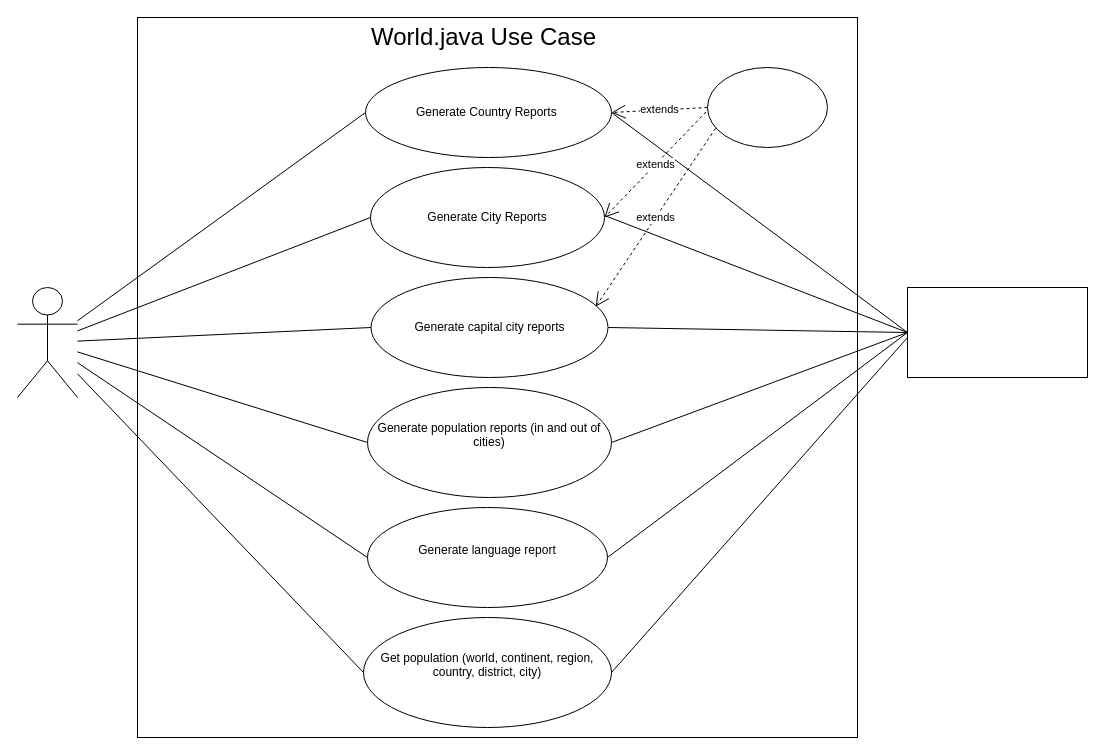
The diagram is 1105 pixels wide and 755 high, and some of its shapes have lost their labels. The centre of each missing label's shape, as x and y in pixels:
Analyst: the point at 47,342
Limmit to top N: the point at 767,107
World Database: the point at 997,332
